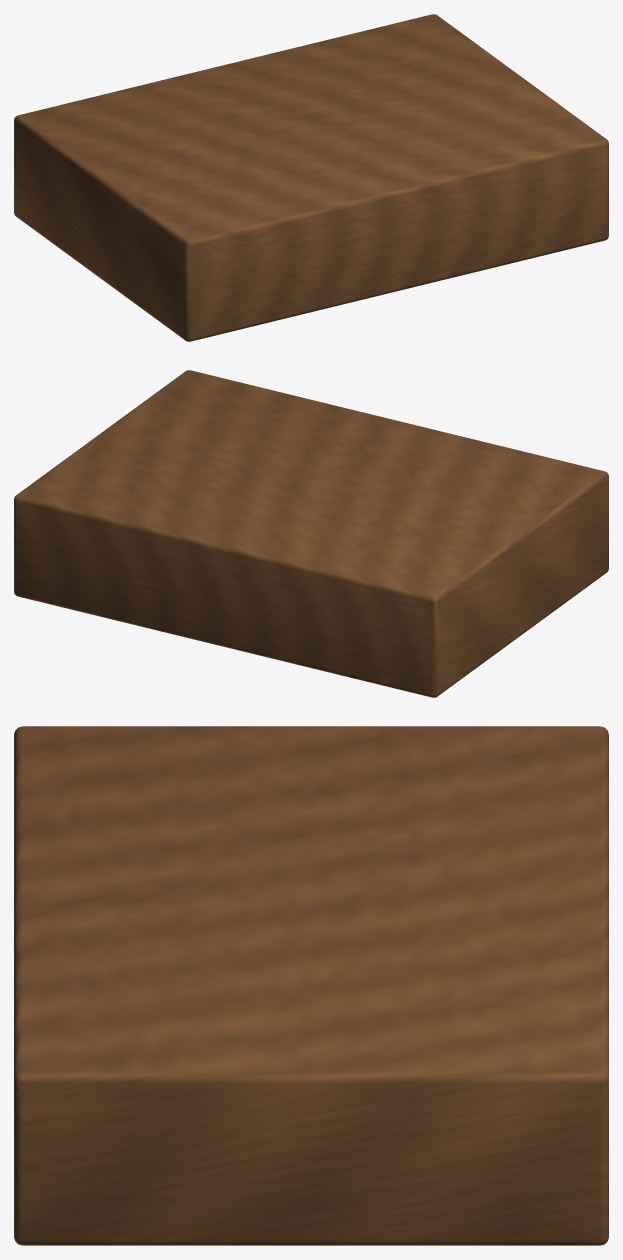
The model's file is bench_slat_end.fbx.
3 renders of one model, top to bottom at view 1: azimuth 30°, elevation 25°; view 2: azimuth 150°, elevation 25°; view 3: azimuth 270°, elevation 25°, orthographic. The views are drawn at different scales.
Parts seen in each view (by area): view 1: bench_slat_end; view 2: bench_slat_end; view 3: bench_slat_end.
Boxes of the visible parts, x1=… form: bench_slat_end: x1=14, y1=14, x2=608, y2=341; bench_slat_end: x1=14, y1=370, x2=608, y2=697; bench_slat_end: x1=14, y1=726, x2=608, y2=1245.
Bounding box in the file's own units: 14 × 3.2 × 10.
